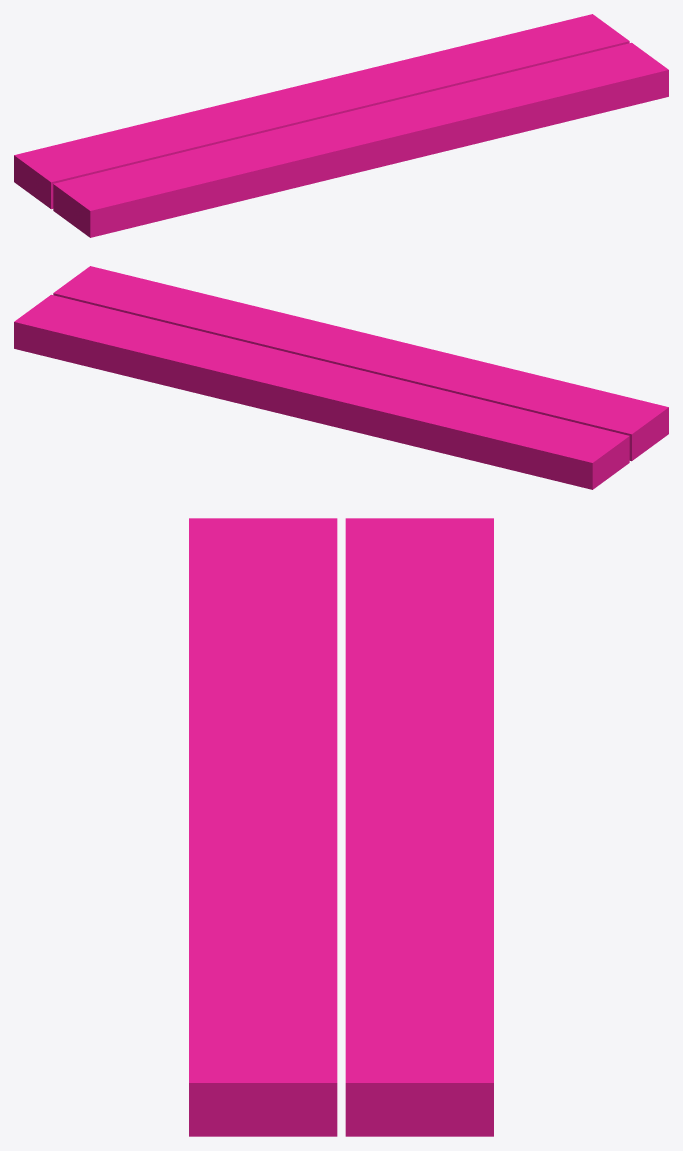
File: ds_full1.gltf
The picture shows the model from 3 angles, top to bottom: view 1: azimuth 30°, elevation 25°; view 2: azimuth 150°, elevation 25°; view 3: azimuth 270°, elevation 25°; orthographic projection. The views are drawn at different scales.
Parts seen in each view (by area): view 1: down, up; view 2: up, down; view 3: down, up.
Part boxes in pixels (<box>): down: <box>53,42,668,237</box>; up: <box>14,14,629,209</box>; up: <box>14,294,629,489</box>; down: <box>53,266,668,461</box>; down: <box>189,518,337,1136</box>; up: <box>345,518,493,1136</box>.
Bounding box in the file's own units: 9 × 0.4 × 2.06.
